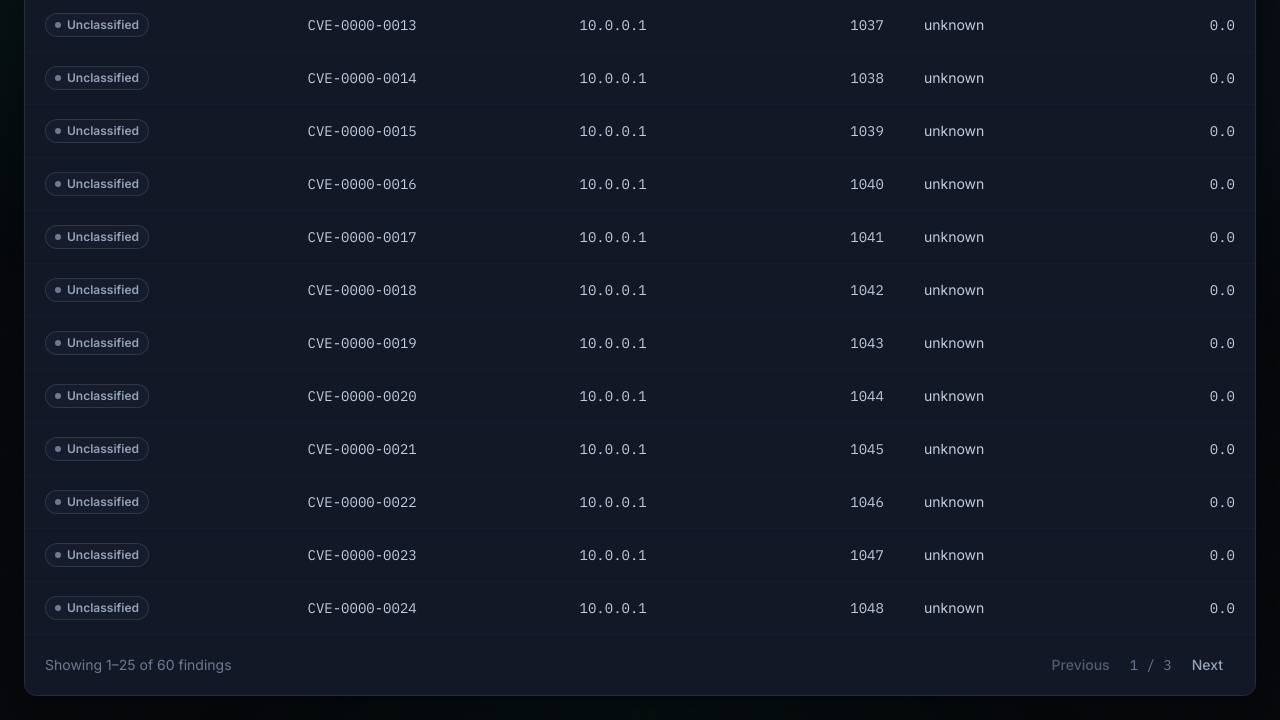
Scenario: ScanResults › navigates to the next page and shows the next slice of findings
(page scrolled)
Click the button with aria-label "Next page".
click(1207, 665)  # box [1180,649,1235,681]
(page scrolled)
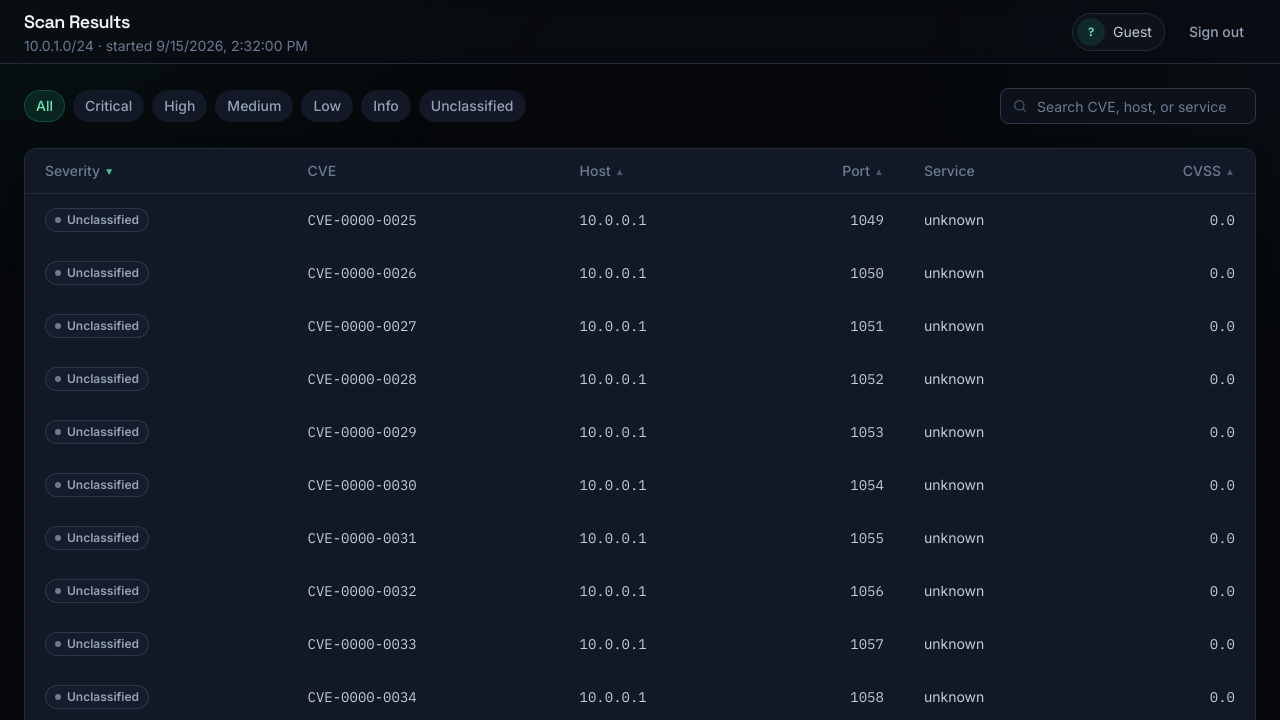
Expected: the text "CVE-0000-0025" is shown, [308,211,417,229]
